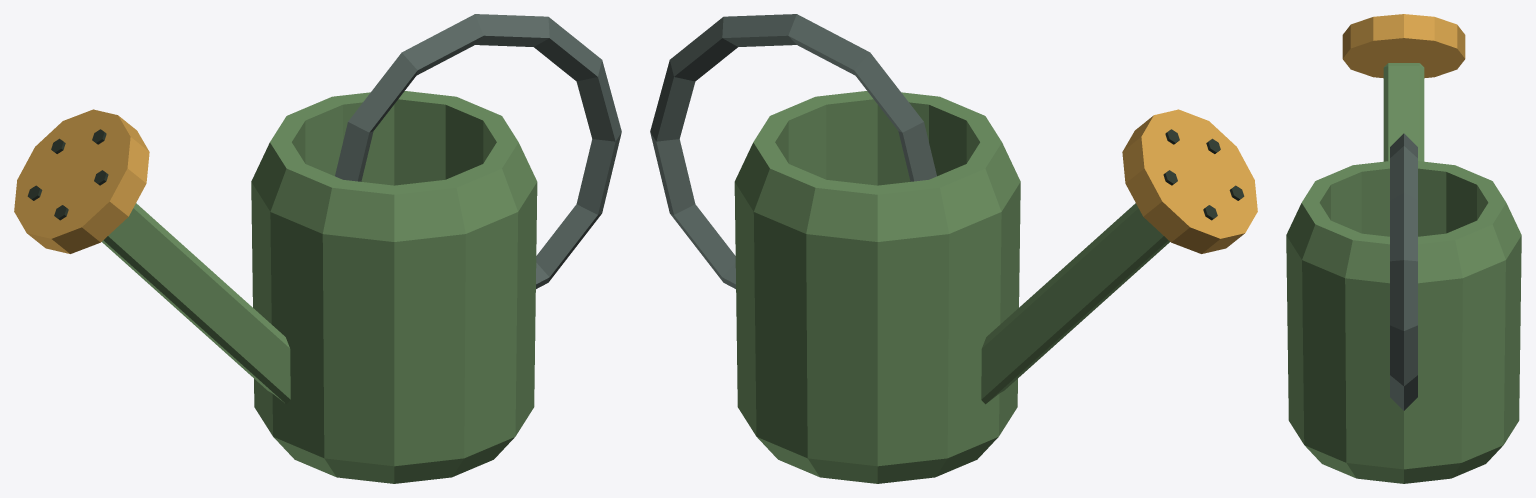
File: 06_Watering_Can.glb
3 renders of one model, left to right at view 1: azimuth 30°, elevation 25°; view 2: azimuth 150°, elevation 25°; view 3: azimuth 270°, elevation 25°, orthographic. The views are drawn at different scales.
Visible parts, largest first — view 1: 06_Watering_Can__Body; view 2: 06_Watering_Can__Body; view 3: 06_Watering_Can__Body.
Boxes of the visible parts, left/top/right/bottom form: 06_Watering_Can__Body: left=14, top=14, right=621, bottom=483; 06_Watering_Can__Body: left=650, top=14, right=1257, bottom=483; 06_Watering_Can__Body: left=1286, top=14, right=1521, bottom=483.
Size of the model in its own units: 2.21 by 1.42 by 0.92.
Materials: 1 (1 with a texture image).
